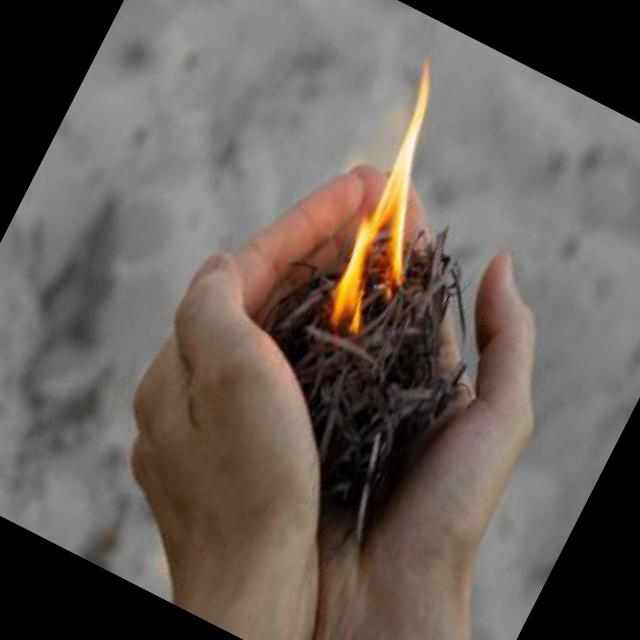fire: (287, 39, 508, 344)
